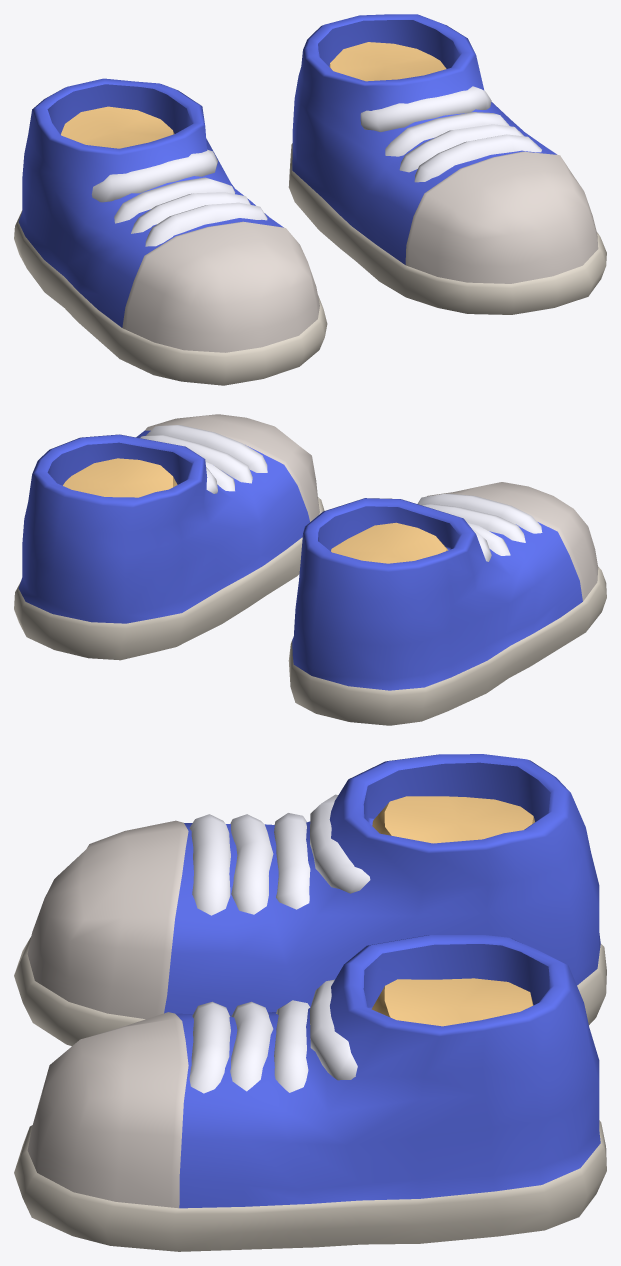
Rendered from Shoes_13_02.fbx.
3 views of the same model, one above another, from view 1: azimuth 30°, elevation 25°; view 2: azimuth 150°, elevation 25°; view 3: azimuth 270°, elevation 25° (orthographic). The views are drawn at different scales.
Parts seen in each view (by area): view 1: Shoes_13_02; view 2: Shoes_13_02; view 3: Shoes_13_02.
Part boxes in pixels (bbox=[...]): Shoes_13_02: bbox=[14, 14, 606, 385]; Shoes_13_02: bbox=[14, 414, 606, 725]; Shoes_13_02: bbox=[14, 754, 606, 1251].
Size of the model in its own units: 30.33 by 9.21 by 23.86.
